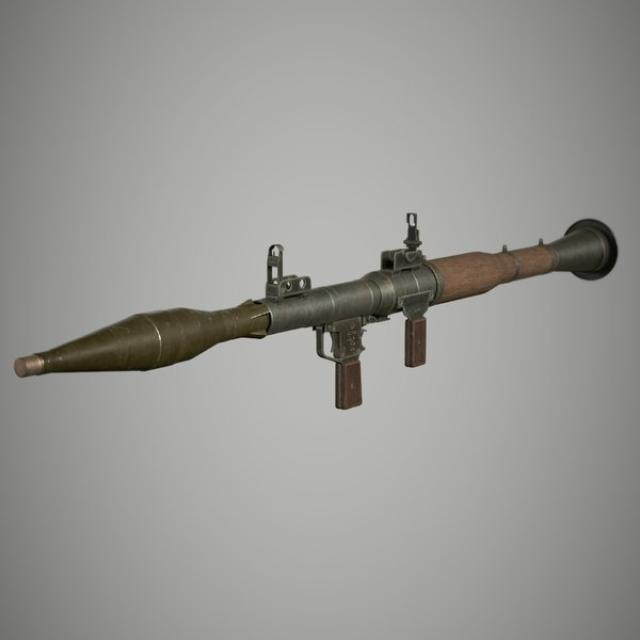bazooka: (6, 143, 634, 454)
